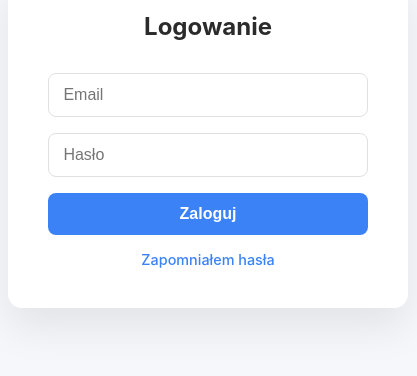
Test: Login › pokazuje link do 2FA, gdy backend wymaga drugiego czynnika
The image size is (417, 376).
Type "test@test.com" into the field with placeholder "Email" at coordinates (208, 95), box [48, 73, 368, 117]
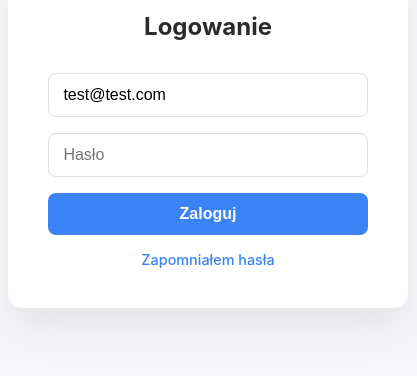
Type "pass123" into the password field with placeholder "Hasło" at coordinates (208, 155), box [48, 133, 368, 177]
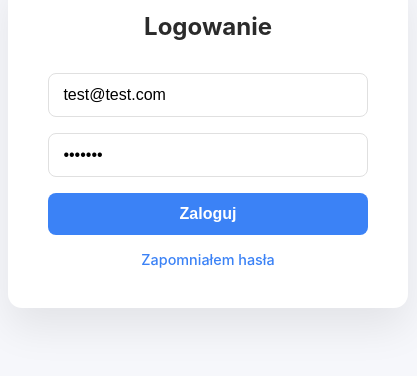
Click the button "Zaloguj" at coordinates (208, 214), box [48, 193, 368, 235]
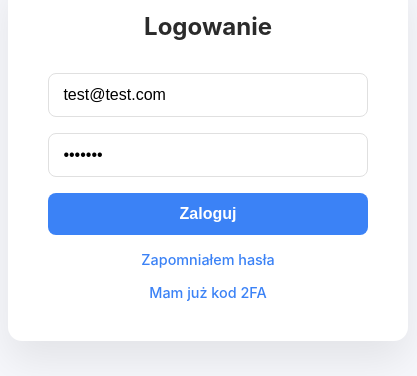
Expected: the link "Mam już kod 2FA" is shown, [149, 284, 267, 301]
